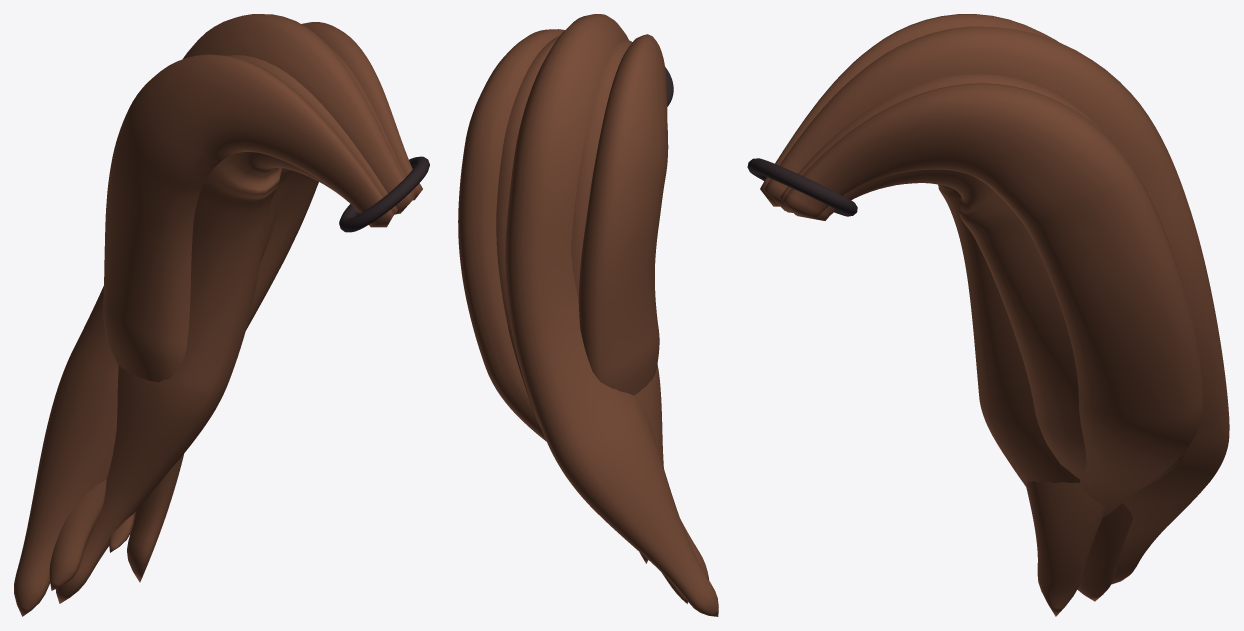
The model's file is beanie-ponytail-default.glb.
The picture shows the model from 3 angles, left to right: view 1: azimuth 30°, elevation 25°; view 2: azimuth 150°, elevation 25°; view 3: azimuth 270°, elevation 25°; orthographic projection. The views are drawn at different scales.
Parts seen in each view (by area): view 1: Hair / rounded tail220 0, Hair / rounded tail220 1, Hair / rounded tail220 2, Hair / rounded tail220 3, Hair / rounded tail220 4, Hair / tie220; view 2: Hair / rounded tail220 2, Hair / rounded tail220 0, Hair / rounded tail220 4, Hair / rounded tail220 1, Hair / rounded tail220 3; view 3: Hair / rounded tail220 4, Hair / rounded tail220 2, Hair / rounded tail220 3, Hair / rounded tail220 1, Hair / rounded tail220 0, Hair / tie220.
Boxes of the visible parts, left/top/right/bottom form: Hair / rounded tail220 0: left=103, top=54, right=394, bottom=582; Hair / rounded tail220 1: left=55, top=55, right=397, bottom=603; Hair / rounded tail220 2: left=14, top=14, right=414, bottom=616; Hair / rounded tail220 3: left=49, top=47, right=415, bottom=590; Hair / rounded tail220 4: left=109, top=22, right=422, bottom=552; Hair / tie220: left=339, top=156, right=429, bottom=232; Hair / rounded tail220 2: left=505, top=14, right=718, bottom=616; Hair / rounded tail220 0: left=578, top=34, right=668, bottom=563; Hair / rounded tail220 4: left=458, top=29, right=564, bottom=441; Hair / rounded tail220 1: left=571, top=39, right=687, bottom=603; Hair / rounded tail220 3: left=496, top=36, right=708, bottom=579; Hair / rounded tail220 4: left=783, top=83, right=1203, bottom=516; Hair / rounded tail220 2: left=764, top=26, right=1229, bottom=584; Hair / rounded tail220 3: left=779, top=74, right=1191, bottom=484; Hair / rounded tail220 1: left=787, top=184, right=1132, bottom=601; Hair / rounded tail220 0: left=760, top=14, right=1105, bottom=616; Hair / tie220: left=747, top=158, right=857, bottom=216.
Bounding box in the file's own units: 0.2151 × 0.4144 × 0.2673.
